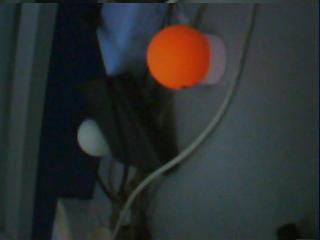oball: (146, 25, 210, 89)
